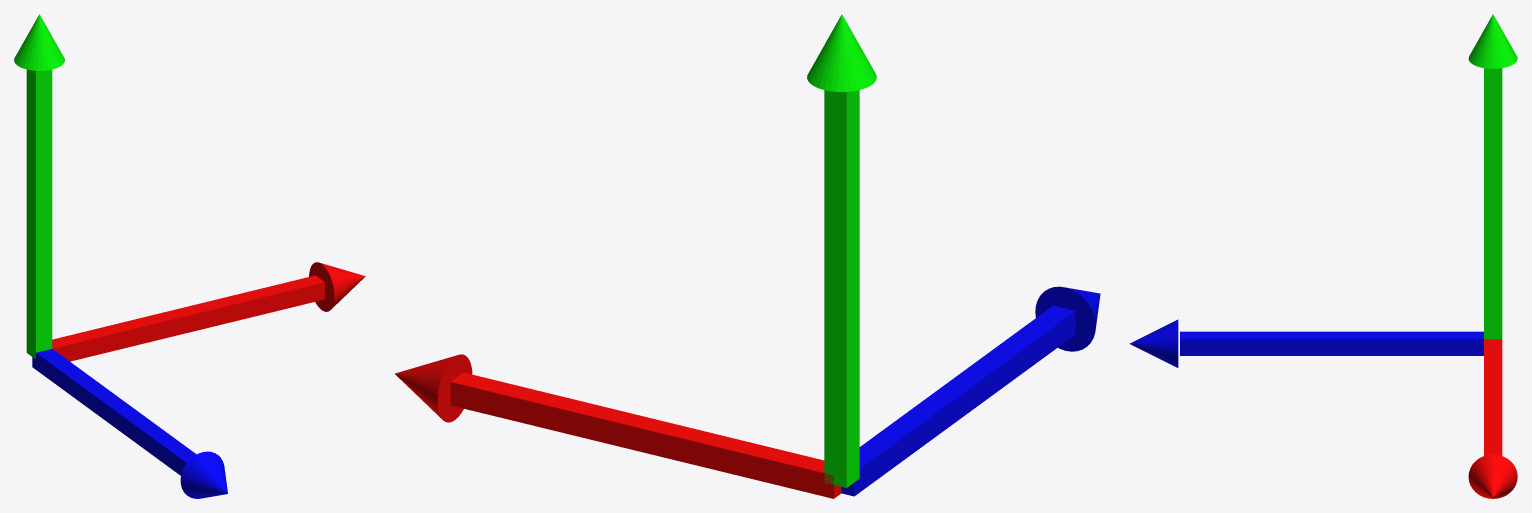
File: Giz_mov.obj
3 renders of one model, left to right at view 1: azimuth 30°, elevation 25°; view 2: azimuth 150°, elevation 25°; view 3: azimuth 270°, elevation 25°, orthographic. The views are drawn at different scales.
Visible parts, largest first — view 1: EjeY_Cube, EjeX_Cube.001, EjeZ_Cube.002; view 2: EjeY_Cube, EjeX_Cube.001, EjeZ_Cube.002; view 3: EjeZ_Cube.002, EjeY_Cube, EjeX_Cube.001.
Part boxes in pixels (box(x1,y1,x2,y2)): EjeY_Cube: box(14, 14, 64, 359); EjeX_Cube.001: box(52, 262, 365, 361); EjeZ_Cube.002: box(32, 349, 227, 498); EjeY_Cube: box(807, 14, 876, 487); EjeX_Cube.001: box(395, 354, 841, 498); EjeZ_Cube.002: box(841, 286, 1100, 496); EjeZ_Cube.002: box(1129, 319, 1483, 367); EjeY_Cube: box(1468, 14, 1517, 339); EjeX_Cube.001: box(1468, 339, 1517, 498).
Bounding box in the file's own units: 2.11 × 2.11 × 2.11.
